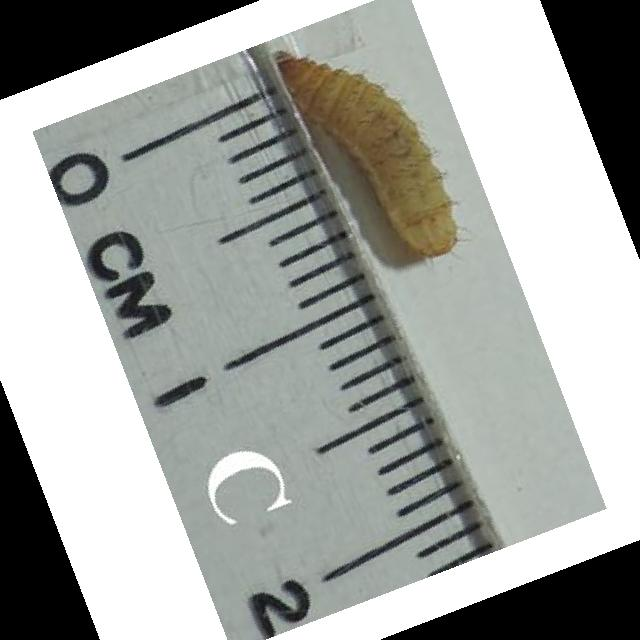Maggot: (274, 44, 465, 257)
